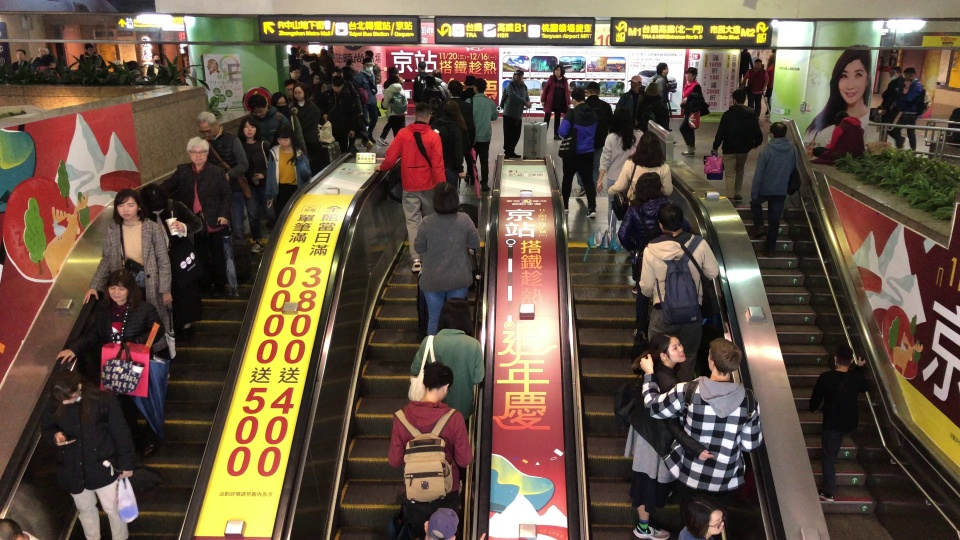person_head: (49, 364, 99, 414), (687, 494, 728, 540), (705, 337, 745, 381), (626, 131, 668, 169), (274, 122, 308, 165), (420, 365, 453, 403), (440, 296, 472, 335), (106, 271, 141, 306), (653, 331, 686, 368), (423, 508, 458, 540), (612, 106, 637, 149), (112, 189, 142, 224), (633, 171, 663, 203), (657, 200, 683, 234), (143, 181, 166, 218), (430, 181, 458, 210), (237, 117, 264, 147), (197, 109, 221, 142), (185, 137, 209, 168), (832, 343, 854, 373), (437, 91, 456, 119), (247, 95, 268, 117), (412, 103, 432, 124), (270, 92, 287, 116), (768, 121, 787, 139), (284, 76, 297, 99), (292, 82, 306, 103), (570, 87, 585, 106), (472, 78, 489, 94), (731, 88, 745, 107), (447, 79, 458, 102), (586, 81, 599, 100), (835, 110, 849, 127), (288, 65, 301, 83), (684, 66, 697, 83), (905, 65, 916, 83), (41, 56, 55, 70), (552, 63, 565, 78), (423, 74, 435, 90), (312, 68, 322, 87), (890, 64, 901, 81), (656, 62, 669, 76), (630, 75, 641, 91), (345, 56, 357, 70), (463, 74, 475, 87), (387, 74, 399, 87), (512, 69, 526, 80), (330, 64, 341, 77), (388, 65, 399, 77), (84, 42, 94, 55), (432, 68, 443, 79), (364, 59, 373, 72), (128, 60, 138, 71), (364, 48, 375, 58), (15, 49, 24, 61), (38, 46, 48, 56), (419, 60, 427, 72), (755, 57, 762, 70), (291, 45, 297, 58), (152, 53, 159, 64), (113, 61, 121, 69), (768, 58, 774, 66), (742, 47, 748, 53), (770, 48, 775, 52)
person_vbox: (640, 328, 763, 540), (53, 268, 169, 461), (81, 190, 184, 349), (43, 362, 135, 540), (381, 362, 472, 540), (624, 322, 688, 540), (157, 132, 237, 300), (373, 101, 448, 272), (638, 201, 725, 340), (413, 181, 480, 345), (809, 340, 873, 505), (409, 293, 482, 434), (140, 179, 206, 331), (195, 110, 245, 283), (595, 105, 645, 240), (750, 116, 797, 256), (619, 173, 666, 305), (557, 85, 599, 219), (713, 88, 762, 201), (237, 116, 274, 254), (575, 79, 613, 202), (265, 121, 311, 221), (445, 78, 479, 189), (472, 78, 500, 201), (433, 92, 466, 189), (891, 65, 925, 157), (499, 66, 532, 159), (377, 64, 411, 152), (329, 65, 364, 149), (292, 83, 323, 176), (676, 492, 735, 540), (245, 93, 292, 151), (270, 92, 307, 161), (540, 62, 570, 141), (879, 64, 905, 148), (826, 107, 864, 164), (614, 75, 652, 130), (652, 59, 676, 146), (680, 66, 702, 157), (457, 79, 475, 187), (358, 58, 378, 144), (382, 74, 407, 141), (742, 57, 765, 120), (307, 67, 329, 115), (77, 41, 108, 73), (0, 518, 46, 539), (146, 52, 173, 85), (411, 60, 430, 104), (418, 74, 443, 105), (363, 48, 382, 84), (36, 54, 61, 79), (12, 47, 30, 80), (286, 64, 308, 90), (740, 48, 753, 91), (765, 57, 774, 116), (946, 105, 960, 142), (433, 65, 447, 99), (461, 74, 475, 106), (343, 59, 360, 84), (32, 45, 52, 66), (125, 59, 143, 80), (433, 76, 447, 100), (761, 62, 769, 94), (318, 49, 333, 65), (289, 47, 299, 65), (768, 48, 776, 65), (112, 60, 123, 71), (310, 62, 320, 74), (311, 52, 320, 64), (299, 49, 306, 58)
